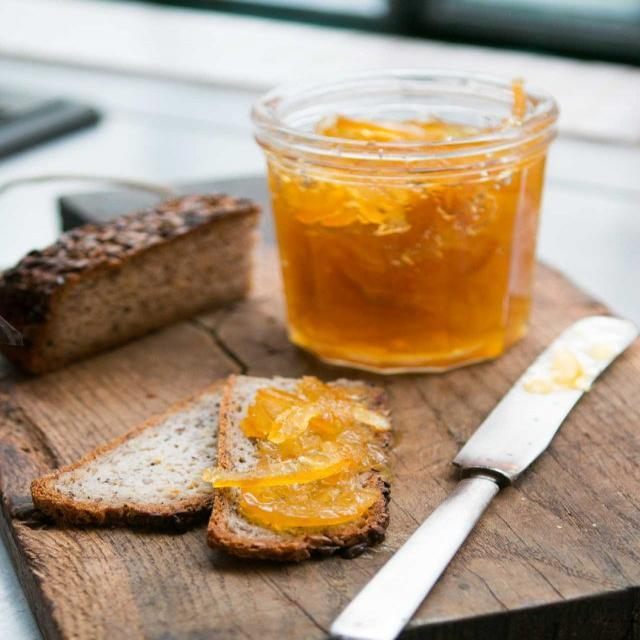Spread: (224, 381, 388, 528)
